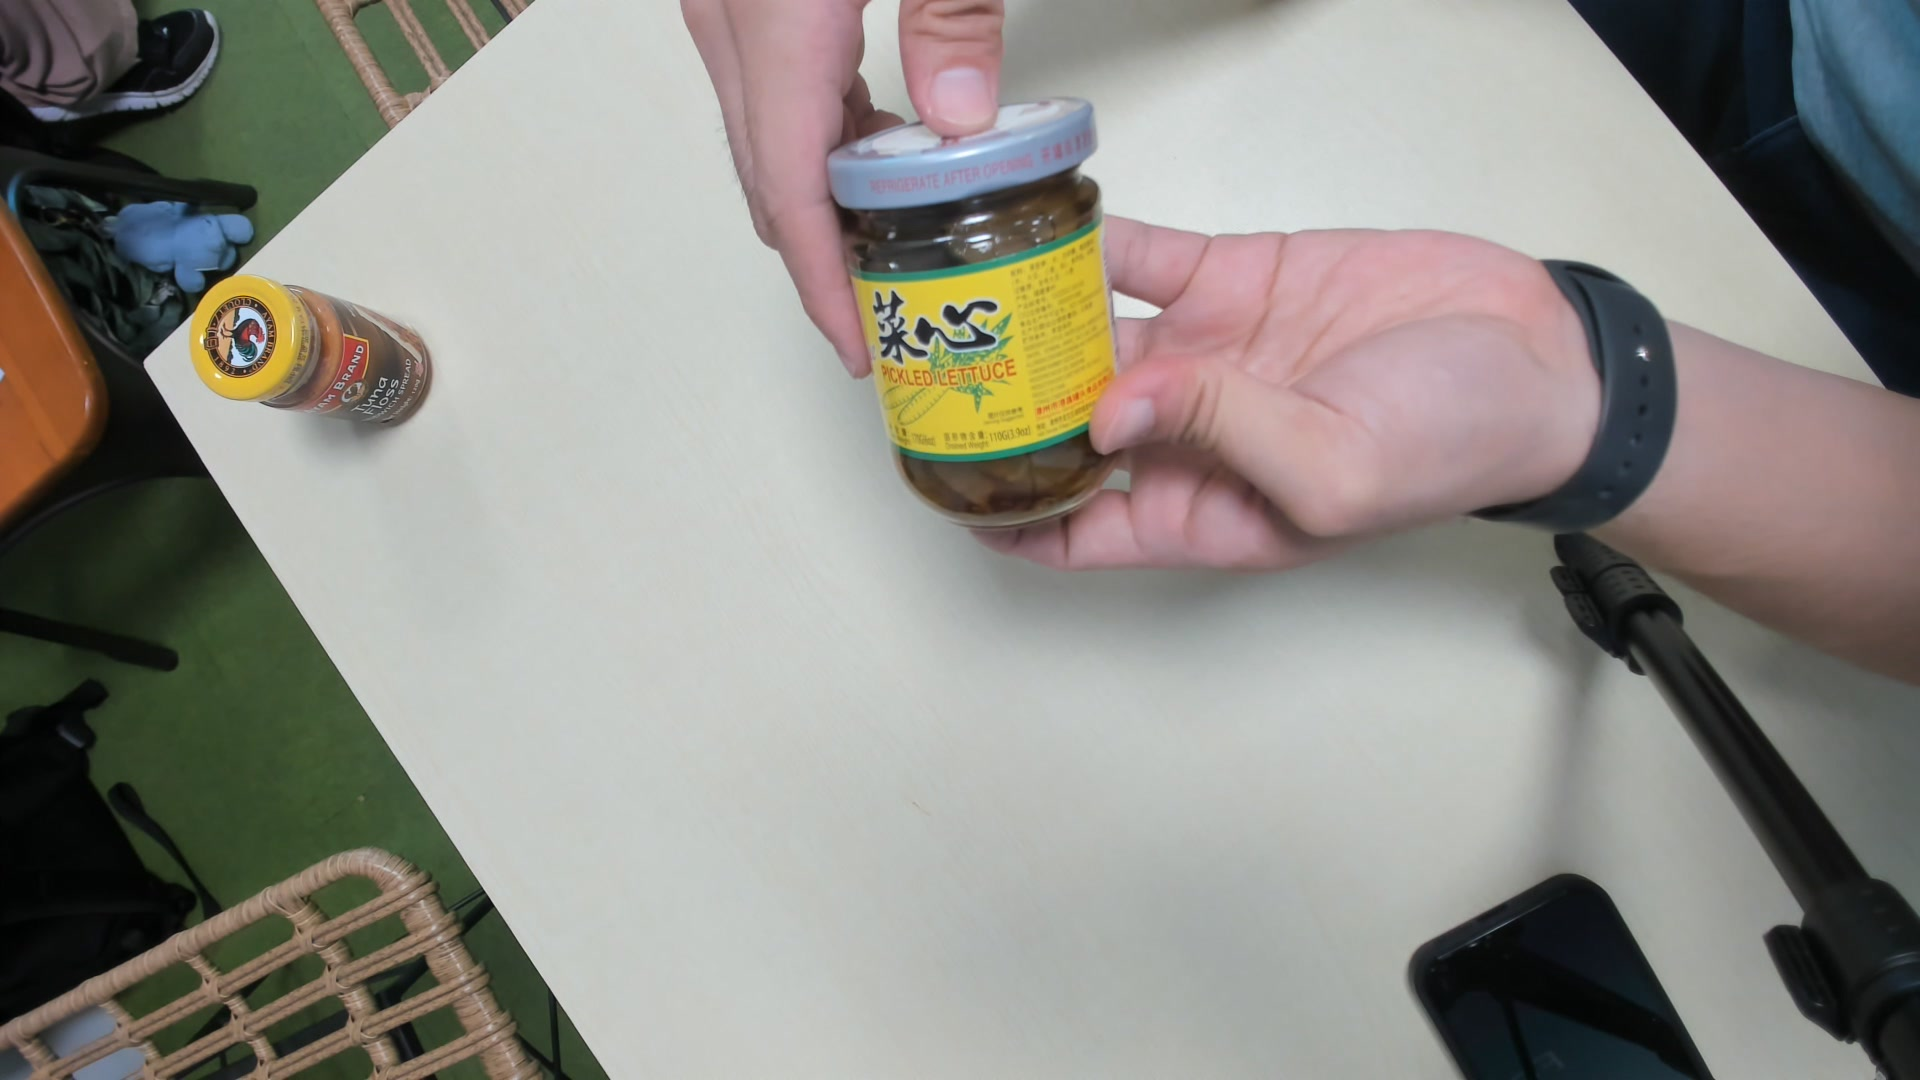OtherSauceDressing_200-299g_Halal_NonHealthy: (825, 88, 1120, 534)
